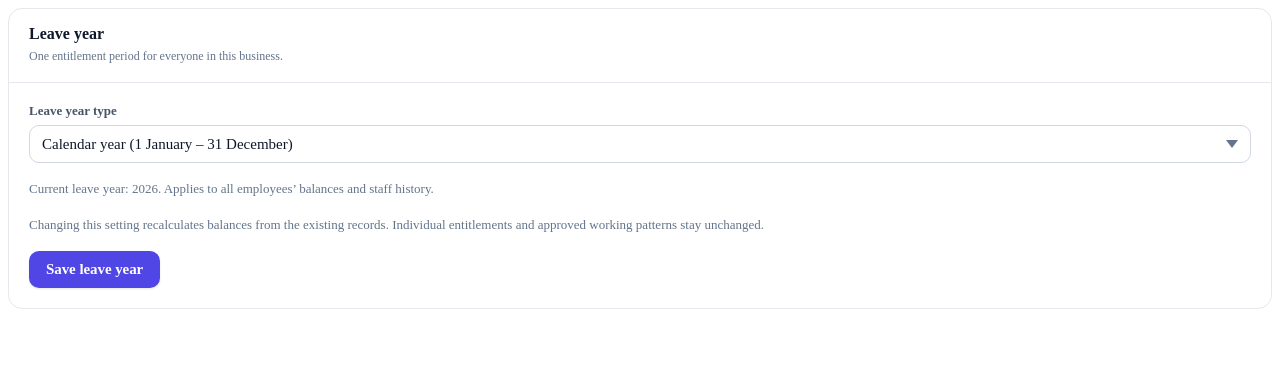
does not report success for a zero-row update
Click the button "Save leave year".
click(95, 269)  # box [29,251,160,288]
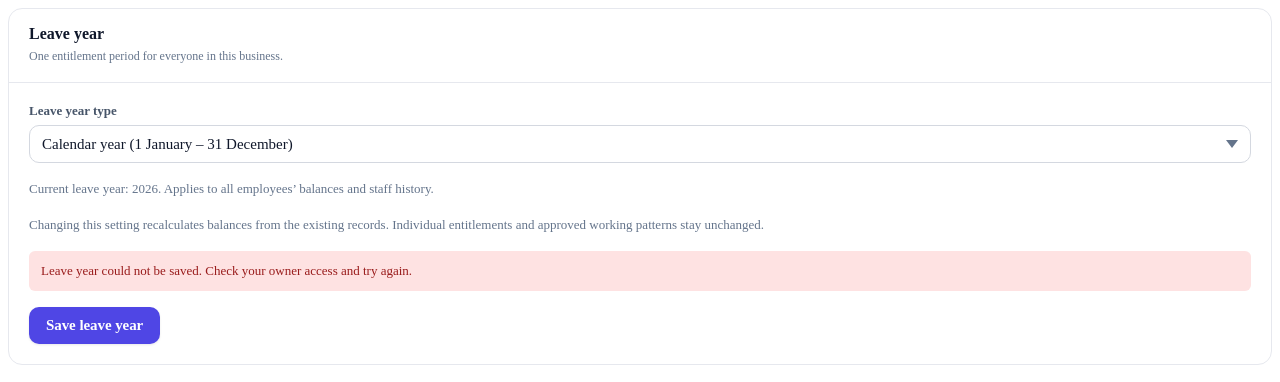
Now the message "Leave year could not be saved. Check your owner access and try again." is shown, box [29,251,1251,291]
